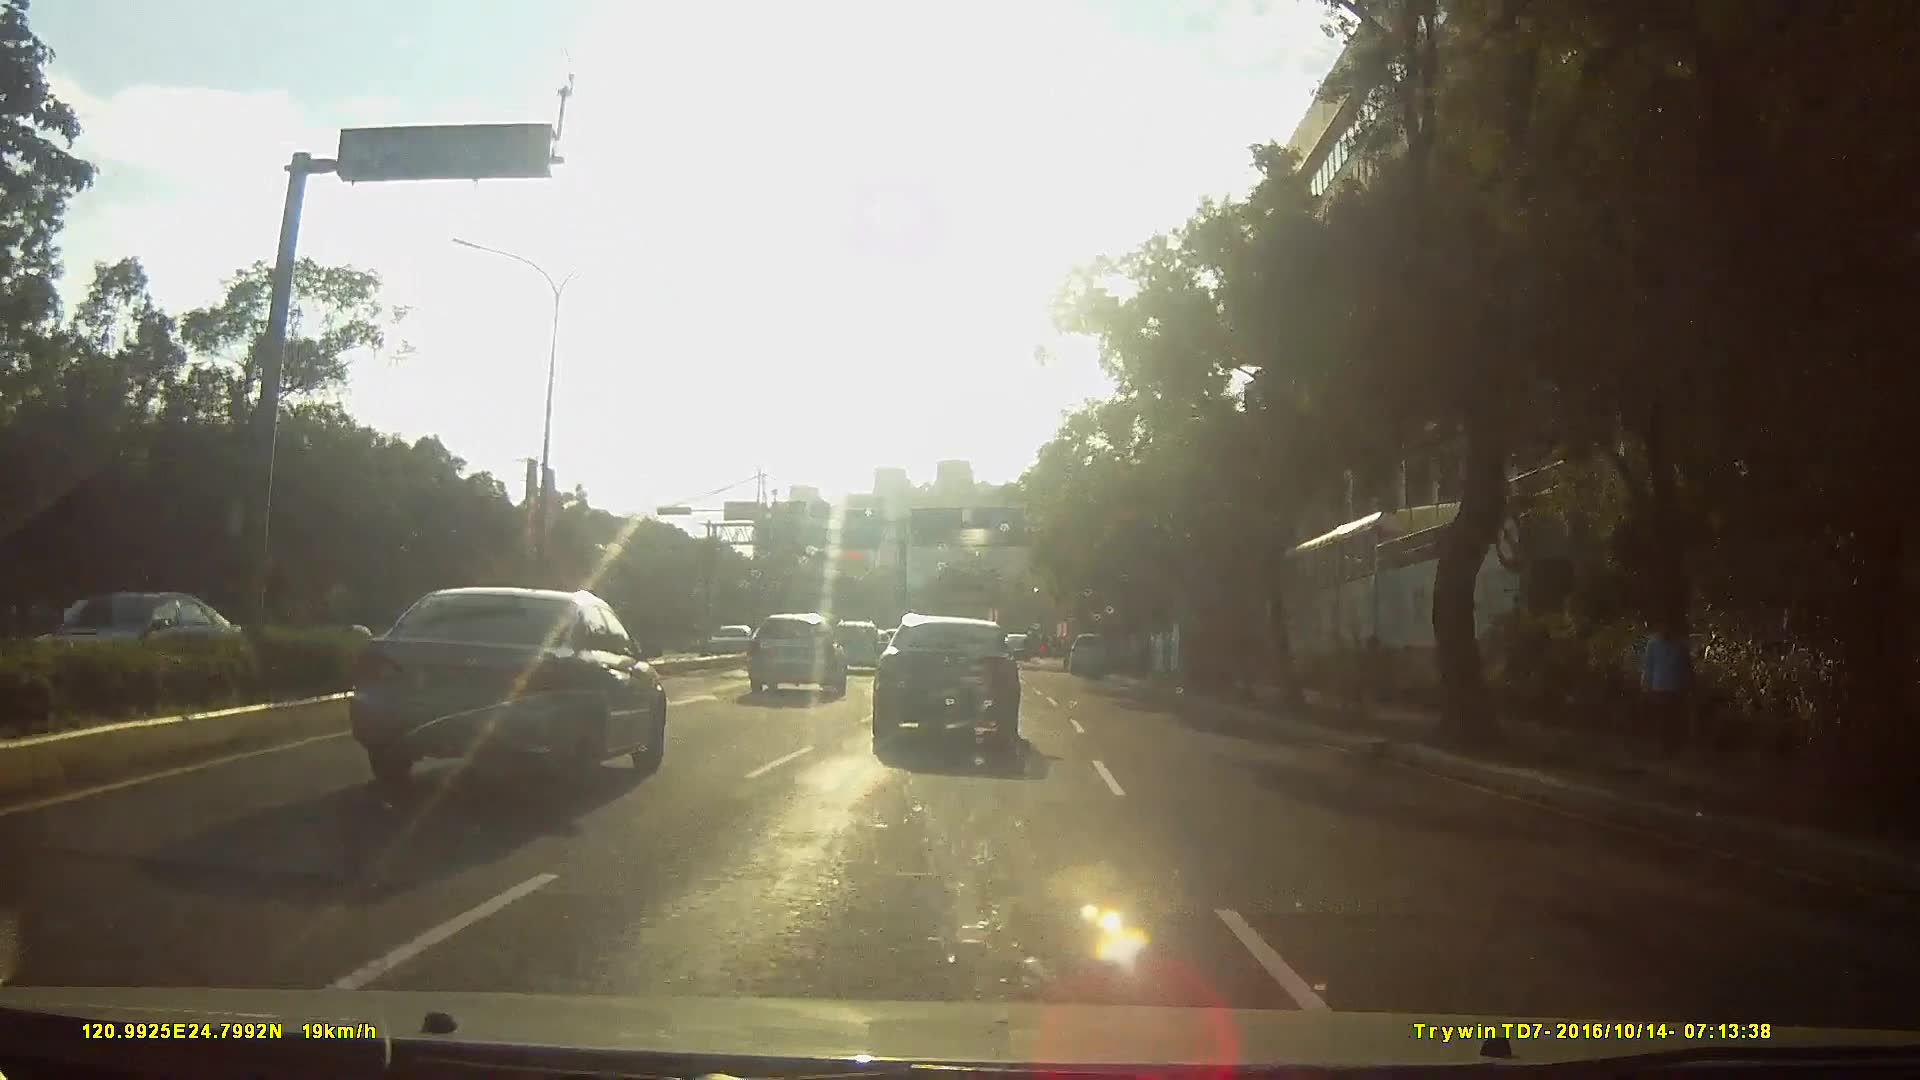pedestrian: (1641, 600, 1699, 767)
vehicle: (330, 583, 661, 801), (27, 587, 254, 698), (868, 613, 1037, 757), (741, 611, 843, 701), (822, 615, 879, 673), (1065, 630, 1117, 677), (705, 619, 760, 661)
